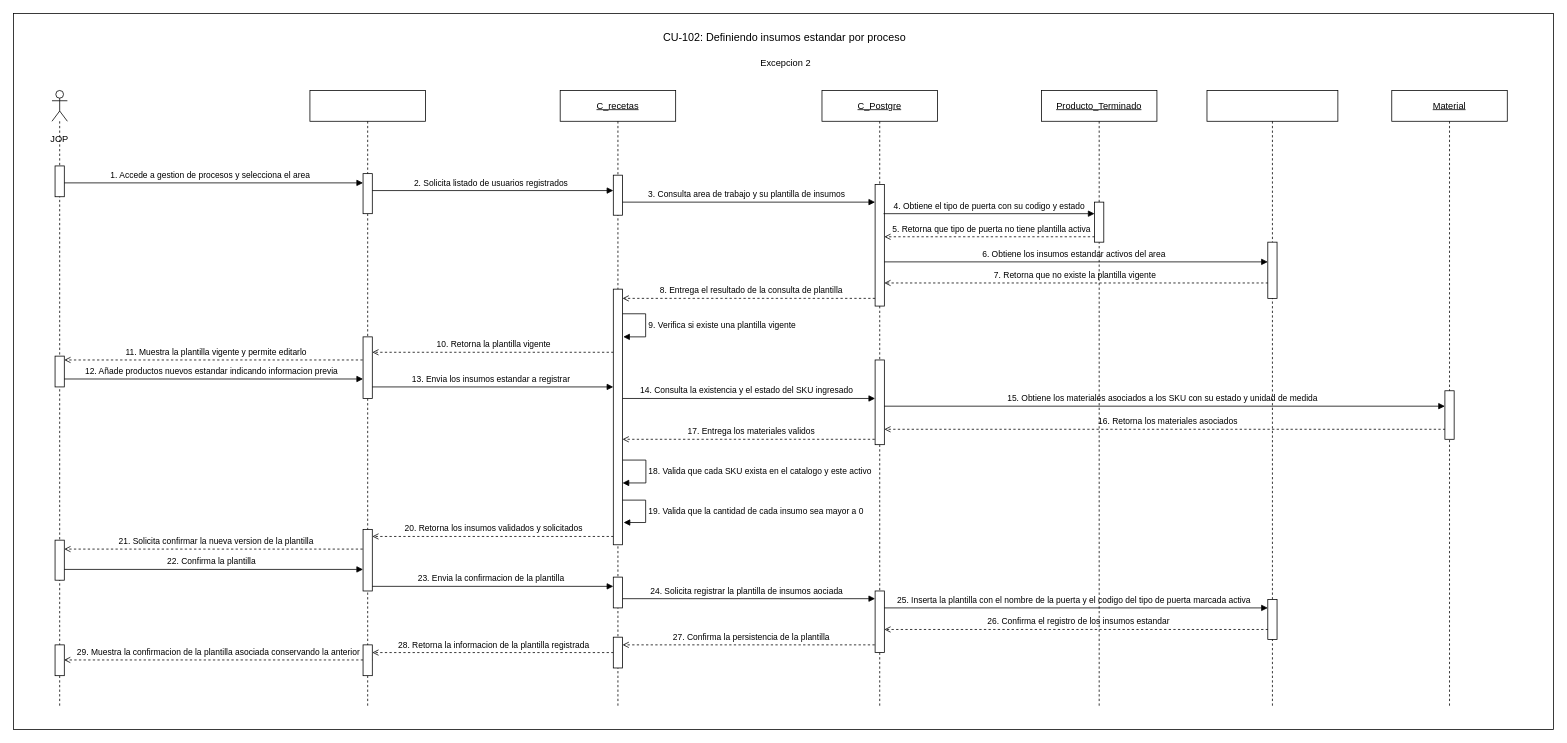
This 1567x743 diagram has some shape labels left out. Here are the shapes that lost their labels. From the top down, the box of each, then its label:
(309, 90, 425, 706): V Nueva recetas
(1206, 90, 1338, 706): Material_Producto_Terminado
